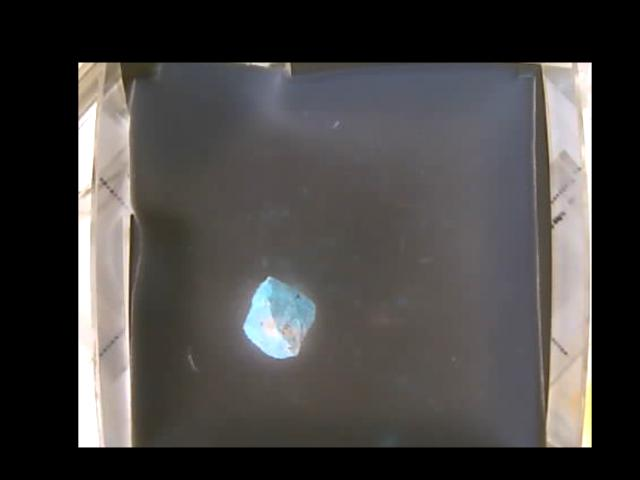Brisk: (241, 275, 314, 358)
